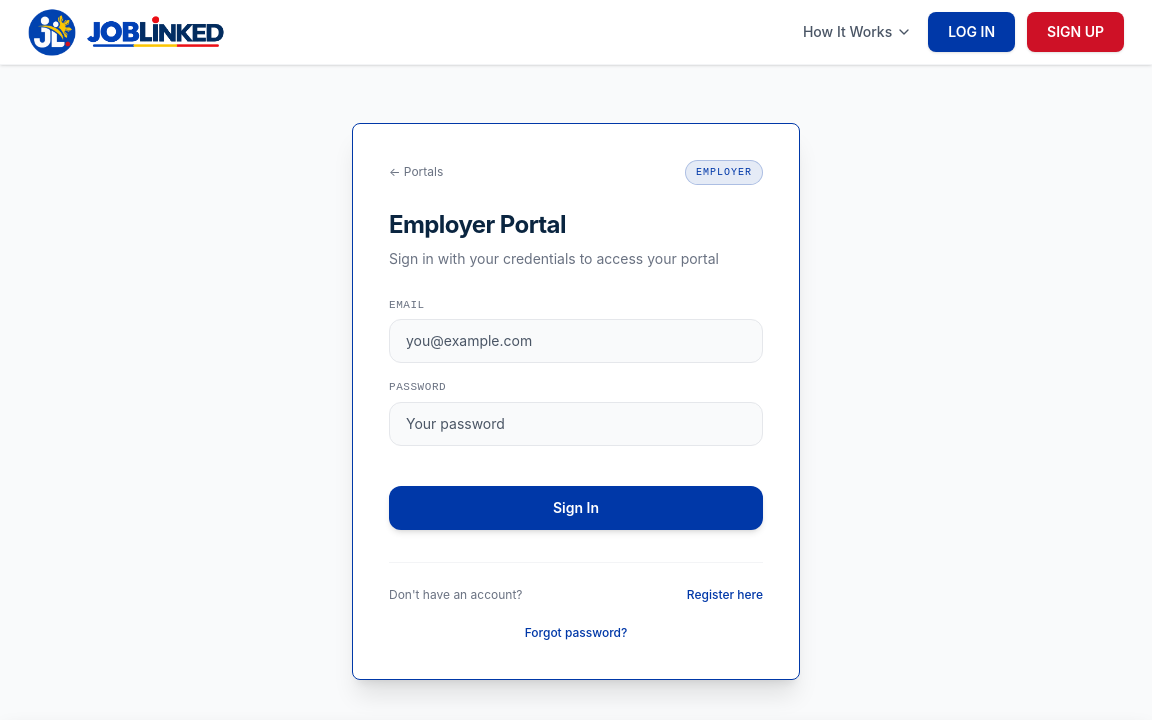
Test: Login › shows error on failed login
In the field labelled "Email": point(576, 341) [389, 319, 763, 363], type "bad@test.com"
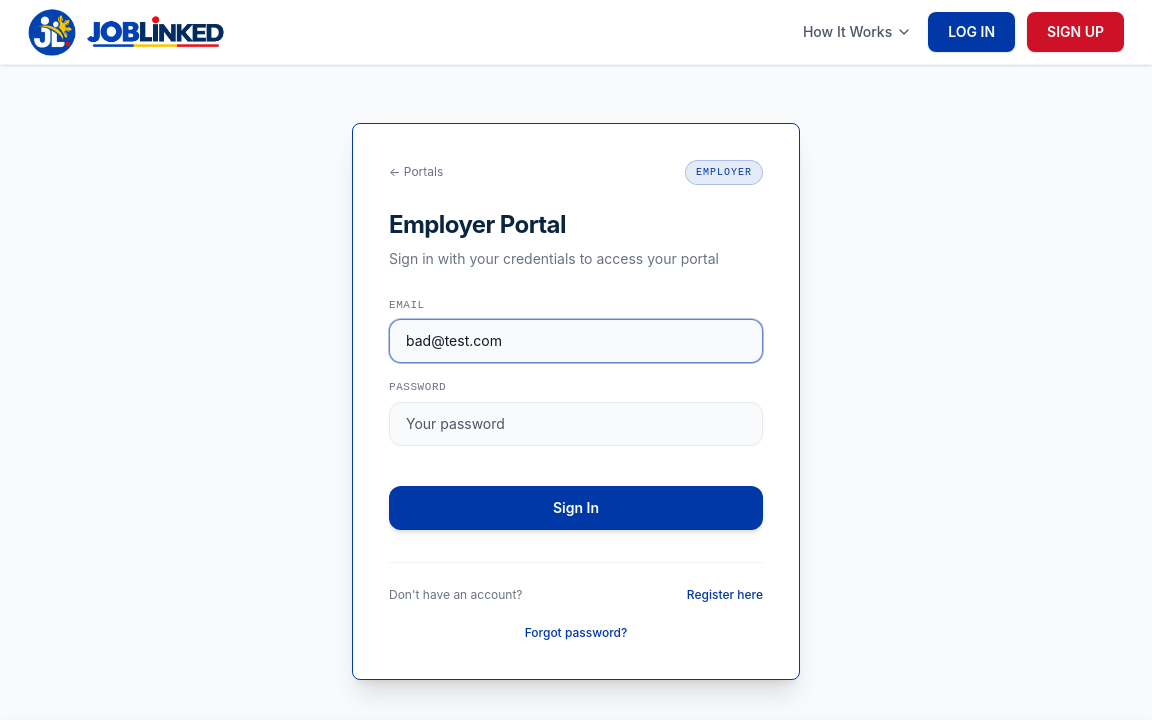
In the password field labelled "Password": point(576, 424) [389, 402, 763, 446], type "wrong"
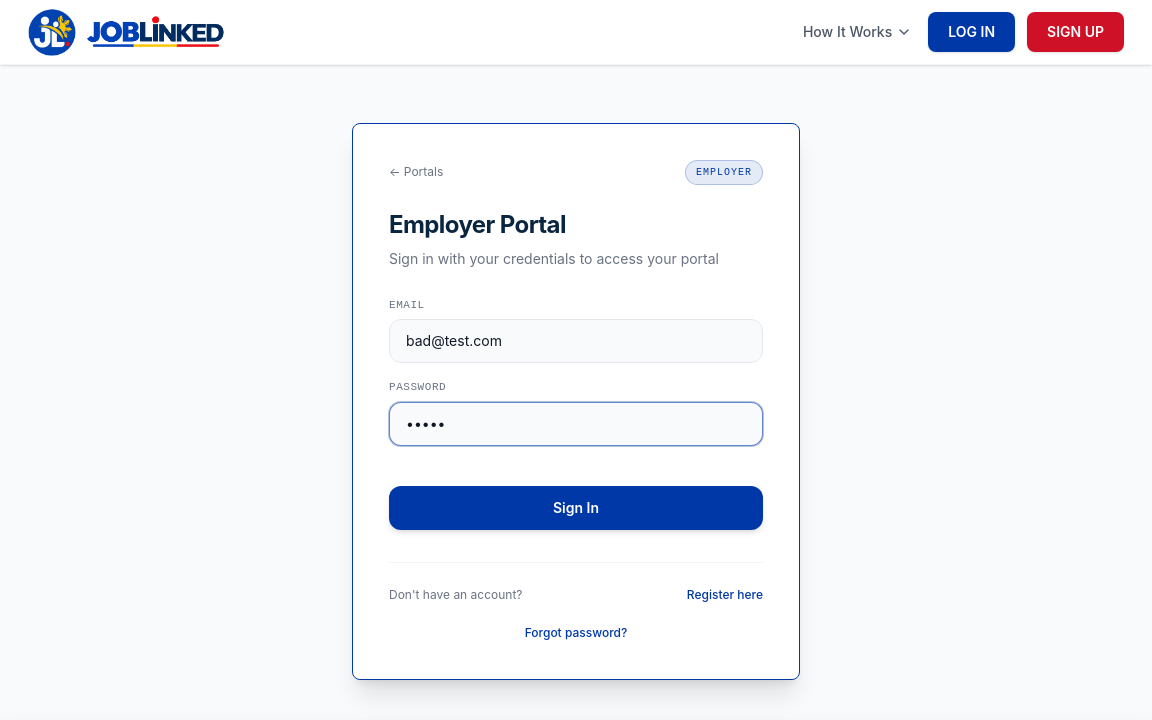
Click the button "Sign In": point(576, 508) [389, 486, 763, 530]
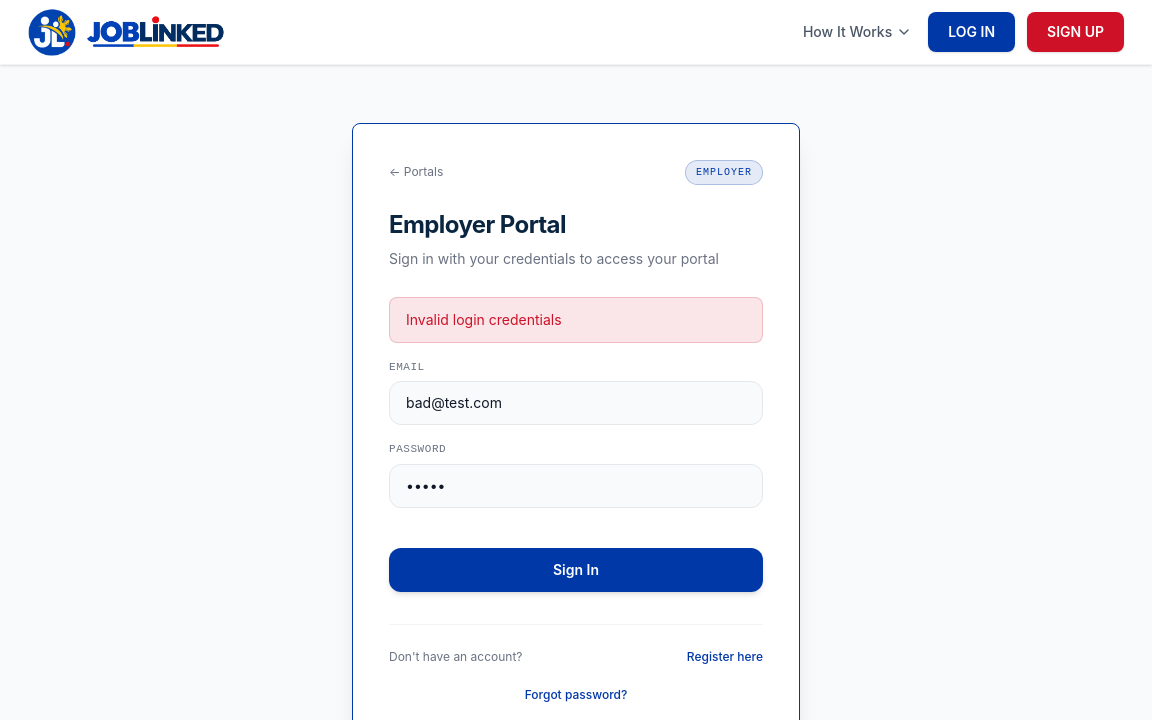
Expected: the text "Invalid login credentials" is shown, [389, 297, 763, 343]
